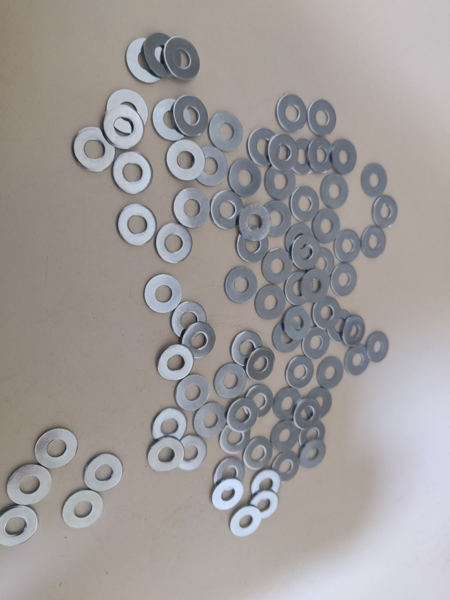circle: (72, 125, 117, 173), (105, 90, 149, 136), (7, 463, 53, 507), (61, 488, 107, 531), (102, 105, 145, 150), (111, 151, 154, 196), (34, 428, 80, 470), (126, 37, 166, 85), (151, 99, 193, 142), (143, 273, 185, 316), (116, 203, 157, 247), (0, 504, 40, 549), (144, 34, 183, 80), (165, 140, 206, 182), (82, 453, 126, 492), (153, 223, 193, 265), (163, 37, 200, 82), (169, 300, 208, 342), (172, 95, 209, 138), (172, 189, 211, 229), (156, 343, 195, 383), (209, 190, 246, 232), (192, 145, 229, 187), (208, 112, 245, 153), (226, 158, 263, 198), (217, 417, 254, 457), (193, 401, 230, 440), (180, 323, 217, 361), (174, 375, 211, 413), (149, 408, 187, 444), (253, 285, 289, 323), (146, 439, 185, 474), (242, 383, 276, 423), (286, 137, 320, 177), (172, 436, 208, 473), (246, 128, 280, 167), (276, 94, 309, 134), (210, 477, 246, 513), (212, 456, 248, 492), (230, 330, 265, 367), (224, 267, 259, 304), (235, 227, 270, 264), (213, 363, 247, 401), (238, 204, 272, 242), (261, 248, 295, 285), (260, 200, 293, 238), (283, 224, 316, 262), (264, 165, 298, 201), (241, 436, 274, 473), (266, 134, 299, 171), (299, 268, 332, 305), (269, 418, 302, 455), (304, 245, 337, 282), (289, 186, 321, 224), (272, 387, 305, 423), (227, 397, 259, 434), (310, 208, 342, 245), (301, 324, 333, 361), (246, 346, 277, 383), (302, 386, 333, 423), (308, 99, 338, 137), (229, 505, 263, 538), (249, 470, 282, 504), (290, 235, 322, 270), (283, 272, 315, 307), (329, 262, 359, 299), (315, 356, 347, 390), (270, 450, 301, 485), (361, 162, 390, 199), (308, 137, 336, 175), (249, 489, 280, 523), (285, 356, 316, 390), (320, 174, 350, 209), (312, 297, 342, 332), (297, 418, 327, 453), (330, 139, 359, 175), (370, 196, 400, 230), (333, 230, 363, 264), (272, 321, 302, 355), (282, 308, 312, 342), (298, 437, 327, 472), (341, 313, 368, 350), (292, 398, 322, 431), (343, 344, 372, 378), (364, 330, 392, 365), (360, 228, 388, 259)
